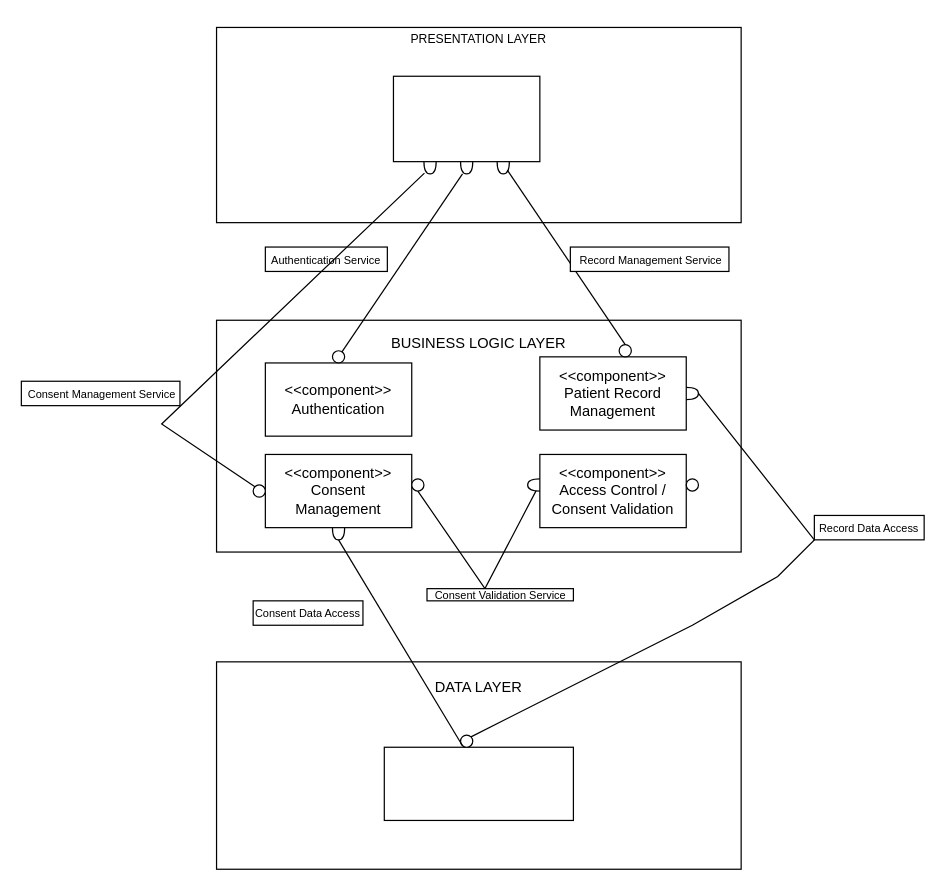
The diagram is 946 pixels wide and 891 high, and some of its shapes have lost their labels. Each missing label, with the centre of its shape:
<<component>> Patient Health Record Database: (478,783)
<<component>> User Interface: (466,118)
